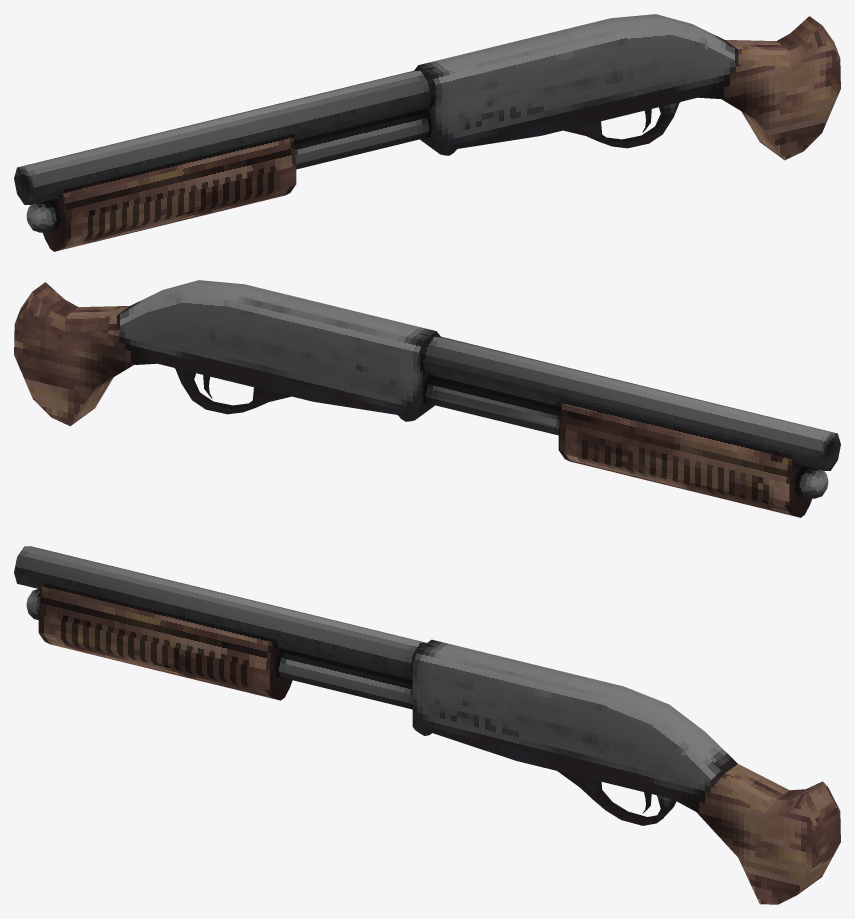
File: SawedOff.glb
3 renders of one model, top to bottom at view 1: azimuth 30°, elevation 25°; view 2: azimuth 150°, elevation 25°; view 3: azimuth 330°, elevation 25°, orthographic.
Parts seen in each view (by area): view 1: Cube, Cube.001; view 2: Cube, Cube.001; view 3: Cube, Cube.001.
Boxes of the visible parts, left/top/right/bottom form: Cube: left=14, top=14, right=840, bottom=232; Cube.001: left=43, top=136, right=296, bottom=251; Cube: left=14, top=280, right=840, bottom=498; Cube.001: left=558, top=402, right=811, bottom=517; Cube: left=14, top=546, right=840, bottom=904; Cube.001: left=38, top=585, right=292, bottom=700.
Size of the model in its own units: 4.57 by 0.9028 by 0.2665.
Materials: 1 (1 with a texture image).
